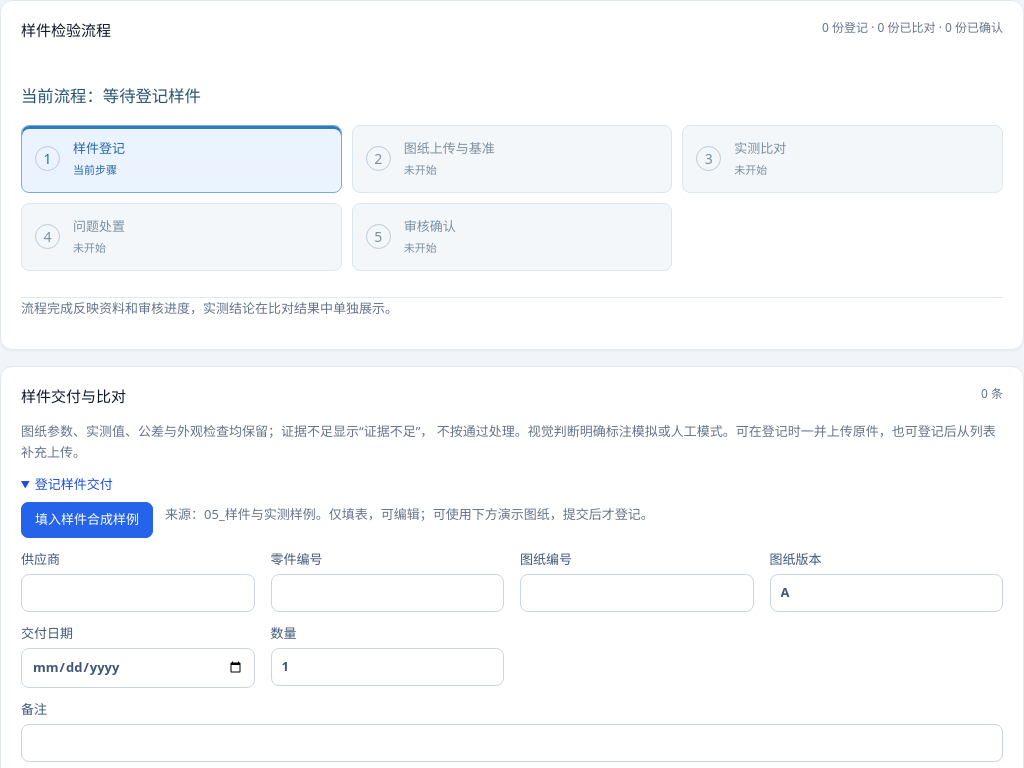
SamplesPanel › shows upload before registration and fills labelled sample data without submitting
Click the button "填入样件合成样例": (87, 520) [21,502,153,538]
(page scrolled)
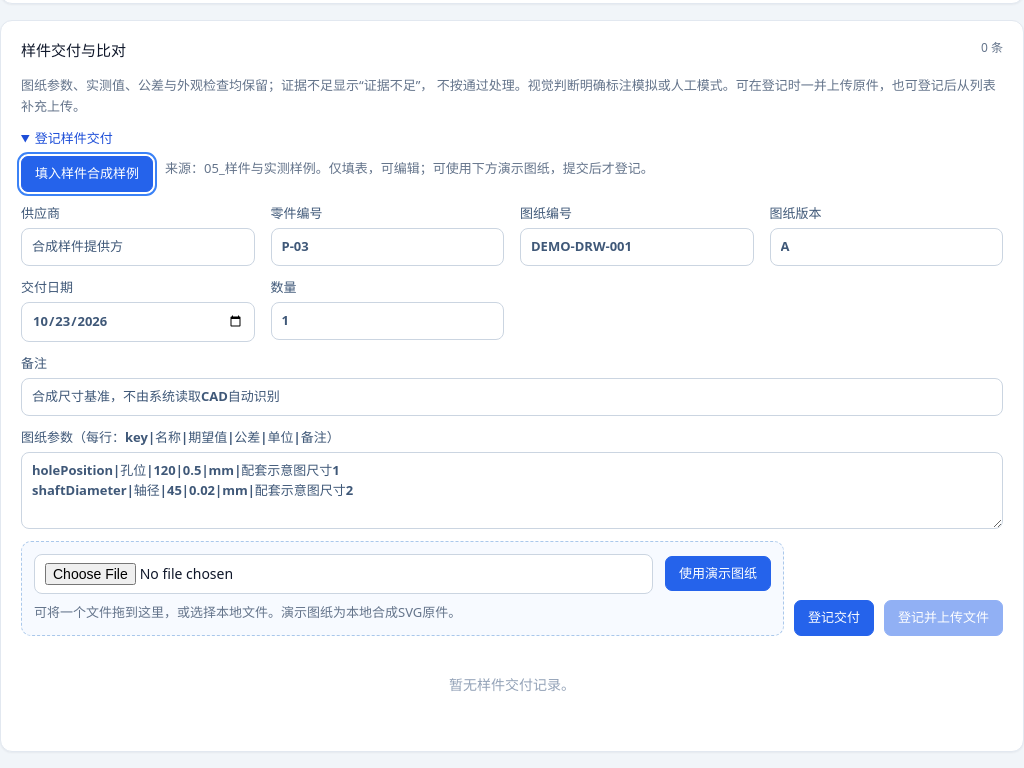
Expected: the file field named "登记时选择样件文件" is shown, [34,554,653,594]
Expected: the field named "样件供应商" holds "合成样件提供方", [21,228,254,266]
